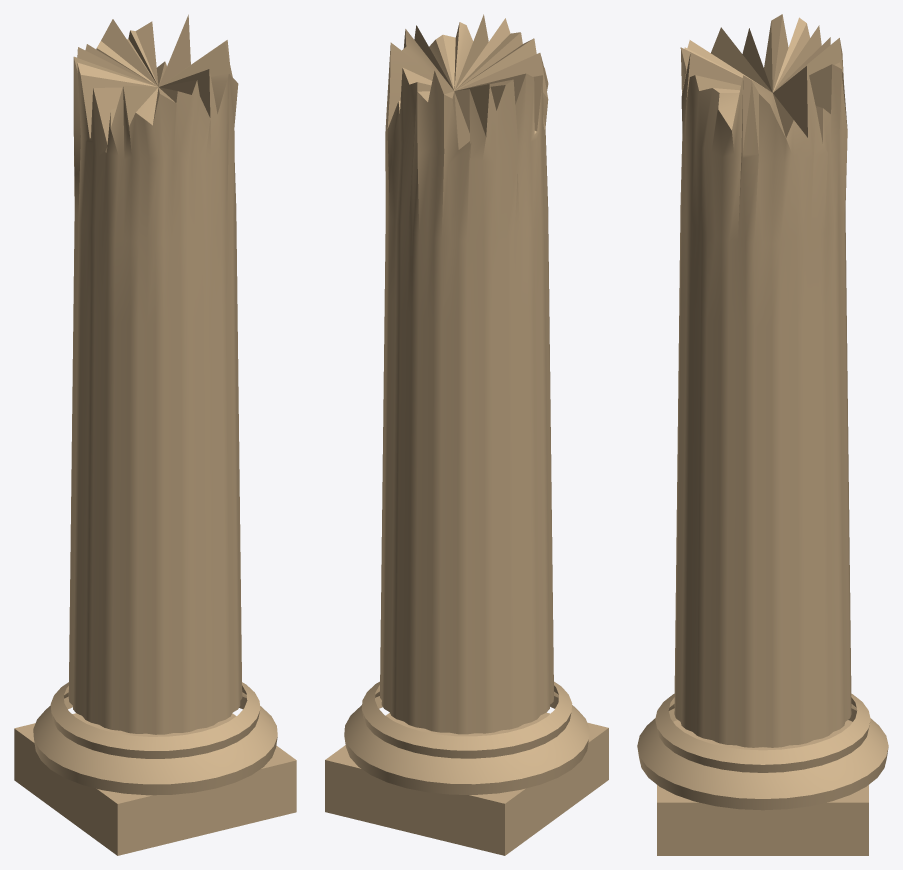
Rendered from column_passage_tall.glb.
3 renders of one model, left to right at view 1: azimuth 30°, elevation 25°; view 2: azimuth 150°, elevation 25°; view 3: azimuth 270°, elevation 25°, orthographic. The views are drawn at different scales.
Visible parts, largest first — view 1: column_passage_tall; view 2: column_passage_tall; view 3: column_passage_tall.
Part boxes in pixels (left/top/right/bottom): column_passage_tall: left=14, top=14, right=296, bottom=855; column_passage_tall: left=325, top=14, right=608, bottom=855; column_passage_tall: left=637, top=14, right=888, bottom=855.
Size of the model in its own units: 1.54 by 5.22 by 1.54.
